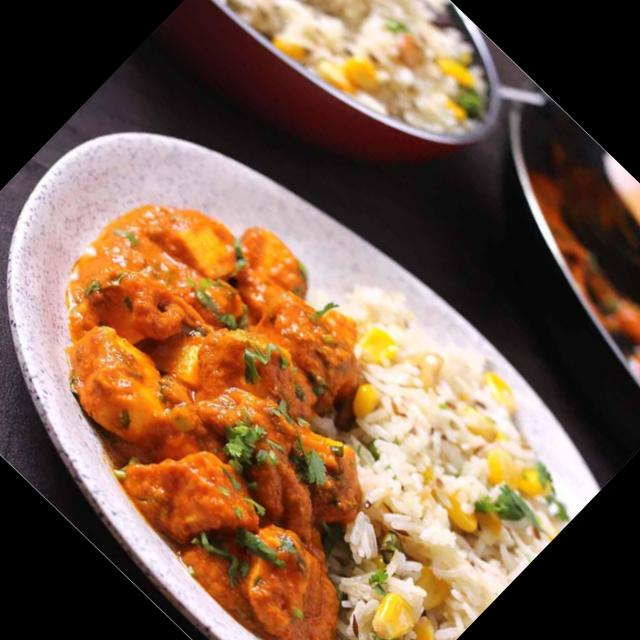rice: (295, 302, 632, 638), (190, 0, 521, 195)
